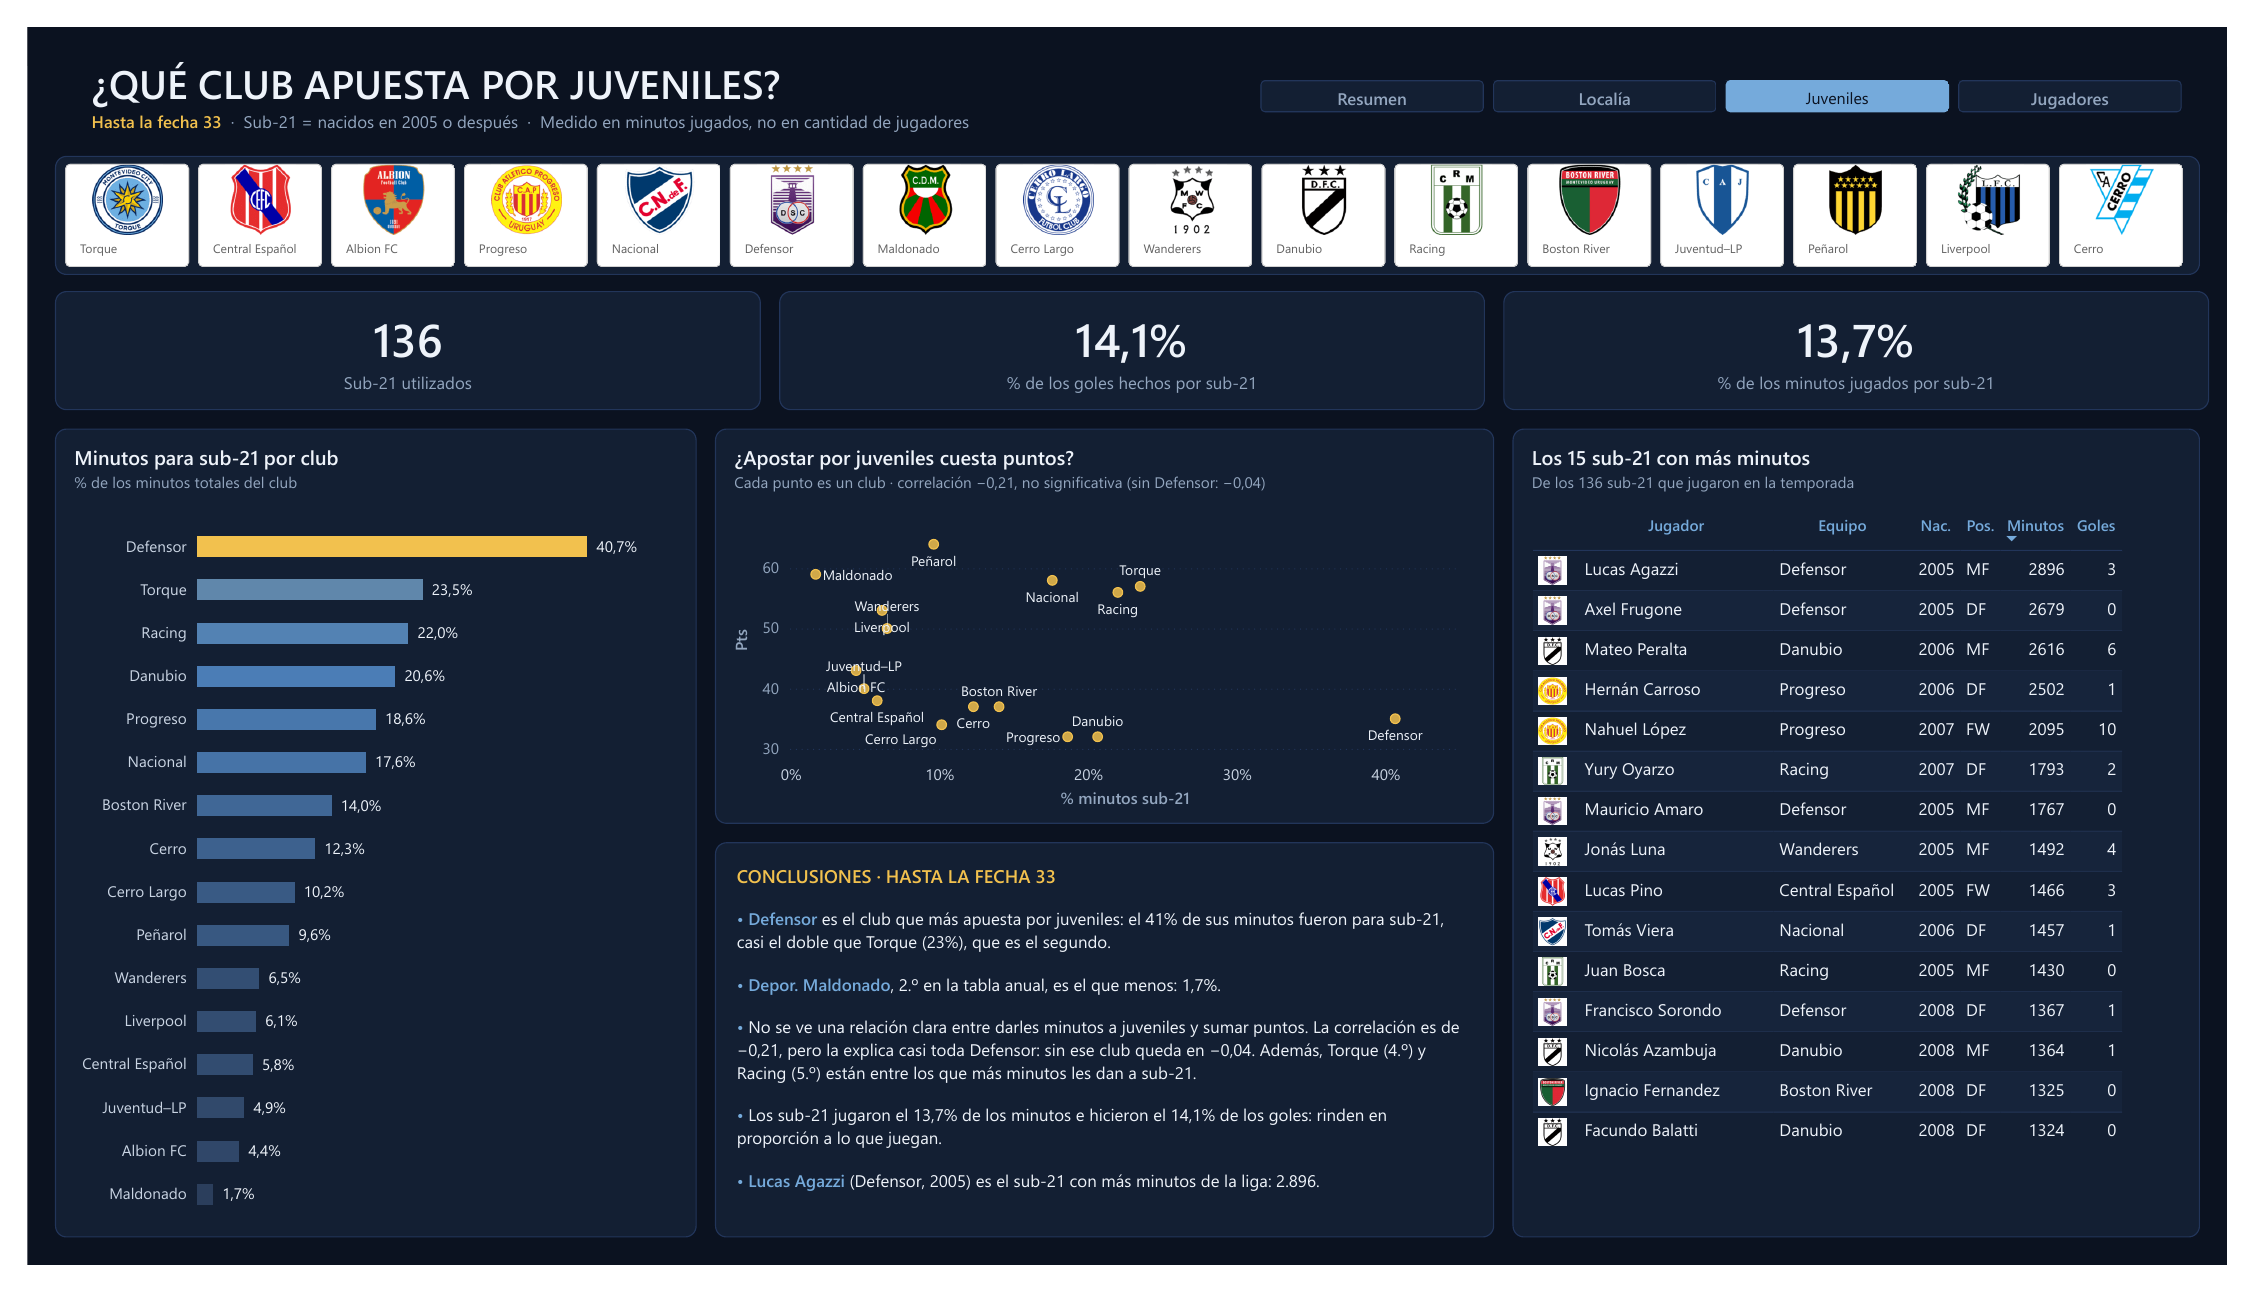

Layout of this report page (visuals, bound fields, positions):
{"tool":"powerbi","page":{"name":"Juveniles","canvas":[1920,1080],"ordinal":2},"visuals":[{"type":"shape","box":[24,26,6,60],"z":100},{"type":"textbox","box":[40,14,1100,90],"z":200},{"type":"pageNavigator","box":[1060,34,836,52],"z":300},{"type":"advancedSlicerVisual","fields":{"Label":["Min(Equipos.Equipo)"],"Values":["Equipos.Escudo_URL"]},"box":[24,112,1872,104],"z":400},{"type":"card","fields":{"Values":["Estadisticas.% Minutos Sub21"]},"box":[1288,230,616,104],"z":500},{"type":"card","fields":{"Values":["Estadisticas.% Goles Sub21"]},"box":[656,230,616,104],"z":600},{"type":"card","fields":{"Values":["Estadisticas.Jugadores Sub21"]},"box":[24,230,616,104],"z":700},{"type":"clusteredBarChart","title":"Minutos para sub-21 por club","fields":{"Category":["Equipos.Equipo"],"Y":["Estadisticas.% Minutos Sub21"]},"box":[24,350,560,706],"z":900},{"type":"scatterChart","title":"¿Apostar por juveniles cuesta puntos?","fields":{"Category":["Equipos.Equipo"],"X":["Estadisticas.% Minutos Sub21"],"Y":["Sum(Clasificacion.Pts)"]},"box":[600,350,680,345],"z":1000},{"type":"textbox","box":[600,711,680,345],"z":1100},{"type":"tableEx","title":"Los 15 sub-21 con más minutos","fields":{"Values":["Equipos.Escudo_URL","Estadisticas.Jugador","Estadisticas.Equipo","Estadisticas.Año","Estadisticas.Posicion","Sum(Estadisticas.Minutos)","Sum(Estadisticas.Goles)"]},"box":[1296,350,600,706],"z":1200}]}

Visuals, with their boxes in screenshot pixels (x1, y1, x2, y2), scaled from the page's 1920x1080 canvas onto the 2255x1293 screenshot:
shape: [28,31,35,103]
textbox: [47,17,1339,125]
pageNavigator: [1245,41,2227,103]
advancedSlicerVisual - Min(Equipos.Equipo) x Equipos.Escudo_URL: [28,134,2227,259]
card - Estadisticas.% Minutos Sub21: [1513,275,2236,400]
card - Estadisticas.% Goles Sub21: [770,275,1494,400]
card - Estadisticas.Jugadores Sub21: [28,275,752,400]
"Minutos para sub-21 por club" clusteredBarChart: [28,419,686,1264]
"¿Apostar por juveniles cuesta puntos?" scatterChart: [705,419,1503,832]
textbox: [705,851,1503,1264]
"Los 15 sub-21 con más minutos" tableEx: [1522,419,2227,1264]
